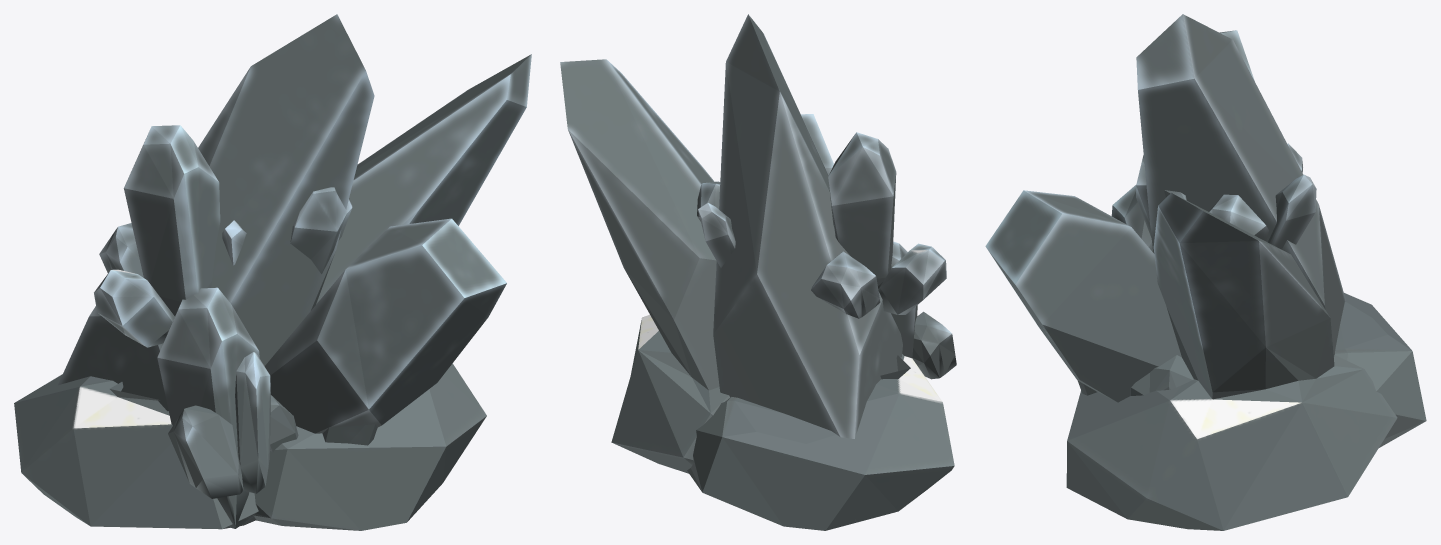
Rendered from iron for belt.fbx.
The picture shows the model from 3 angles, left to right: view 1: azimuth 30°, elevation 25°; view 2: azimuth 150°, elevation 25°; view 3: azimuth 270°, elevation 25°; orthographic projection. The views are drawn at different scales.
Visible parts, largest first — view 1: iron for belt_Baked; view 2: iron for belt_Baked; view 3: iron for belt_Baked.
Boxes of the visible parts, x1,y1,x2,y2 form: iron for belt_Baked: (14,14,531,530); iron for belt_Baked: (560,14,956,530); iron for belt_Baked: (985,14,1426,530).
Size of the model in its own units: 27.86 by 25.96 by 22.16.
1 material, 1 textured.
